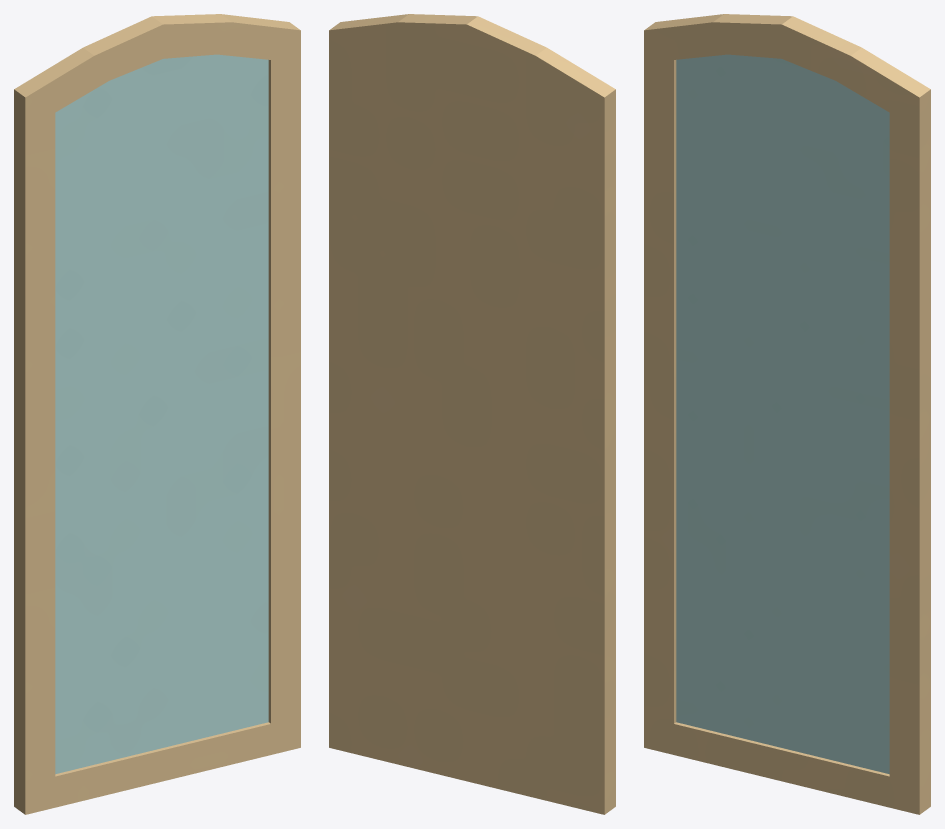
File: Mirror_02_01.fbx
3 views of the same model, side by side, from view 1: azimuth 30°, elevation 25°; view 2: azimuth 150°, elevation 25°; view 3: azimuth 330°, elevation 25° (orthographic).
Visible parts, largest first — view 1: Mirror_02_01; view 2: Mirror_02_01; view 3: Mirror_02_01.
Part boxes in pixels (x1,y1,x2,y2): Mirror_02_01: [14, 14, 300, 814]; Mirror_02_01: [329, 14, 615, 814]; Mirror_02_01: [644, 14, 930, 814].
Bounding box in the file's own units: 0.5642 × 1.48 × 0.0401.
